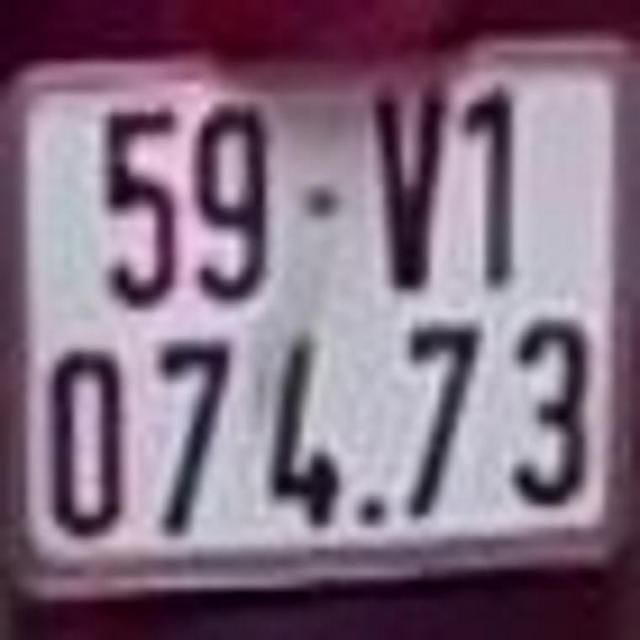0: (43, 340, 122, 542)
1: (460, 83, 520, 295)
3: (512, 305, 594, 522)
4: (271, 333, 340, 520)
5: (104, 105, 180, 313)
7: (150, 334, 230, 540), (404, 323, 479, 520)
9: (190, 101, 272, 306)
V: (366, 71, 448, 292)
